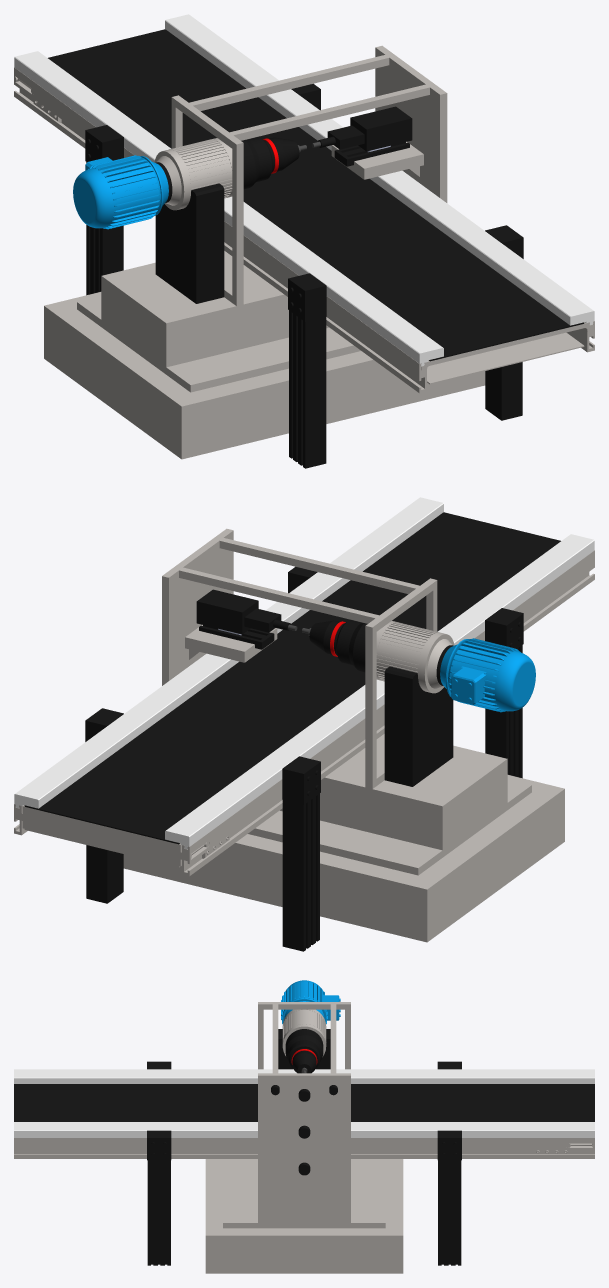
File: Riveting_Station.glb
3 renders of one model, top to bottom at view 1: azimuth 30°, elevation 25°; view 2: azimuth 150°, elevation 25°; view 3: azimuth 270°, elevation 25°, orthographic. The views are drawn at different scales.
Visible parts, largest first — view 1: color-12.001, color-23[1], color-23.001, color-23[5], color-23[3], color-24[1], color-6.001, color-4.001, color-24.001, color-23[2], color-24[2], color-19.001 (+5 smaller); view 2: color-12.001, color-23[1], color-23.001, color-23[5], color-24.001, color-6.001, color-23[3], color-4.001, color-23[4], color-24[1], color-24[3], color-19.001 (+4 smaller); view 3: color-12.001, color-23[1], color-23[3], color-23[5], color-23.001, color-24[2], color-24[3], color-15.001, color-4.001, color-23[4], color-5.001, color-6.001.
Part boxes in pixels (x1,y1,x2,y2): color-12.001: [44, 45, 485, 459]; color-23[1]: [48, 29, 584, 361]; color-23.001: [165, 14, 594, 325]; color-23[5]: [14, 51, 443, 366]; color-23[3]: [44, 89, 594, 393]; color-24[1]: [288, 273, 326, 468]; color-6.001: [155, 183, 224, 303]; color-4.001: [73, 155, 168, 229]; color-24.001: [85, 125, 123, 295]; color-23[2]: [427, 332, 584, 384]; color-24[2]: [485, 225, 523, 420]; color-19.001: [327, 106, 412, 151]; color-12.001: [123, 528, 564, 942]; color-23[1]: [24, 512, 560, 844]; color-23.001: [14, 497, 443, 808]; color-23[5]: [165, 534, 594, 849]; color-24.001: [282, 756, 320, 951]; color-6.001: [384, 666, 453, 786]; color-23[3]: [218, 550, 594, 853]; color-4.001: [440, 638, 535, 712]; color-23[4]: [14, 804, 229, 876]; color-24[1]: [485, 608, 523, 778]; color-24[3]: [85, 708, 123, 903]; color-19.001: [196, 589, 281, 634]; color-12.001: [205, 1002, 403, 1273]; color-23[1]: [14, 1084, 594, 1121]; color-23[3]: [14, 1138, 551, 1158]; color-23[5]: [14, 1069, 594, 1083]; color-23.001: [14, 1122, 594, 1137]; color-24[2]: [147, 1130, 171, 1265]; color-24[3]: [437, 1130, 461, 1265]; color-15.001: [285, 1029, 323, 1073]; color-4.001: [281, 980, 340, 1024]; color-23[4]: [534, 1138, 594, 1158]; color-5.001: [282, 1009, 326, 1042]; color-6.001: [278, 1029, 330, 1069].
Size of the model in its own units: 0.5 by 0.362 by 1.
